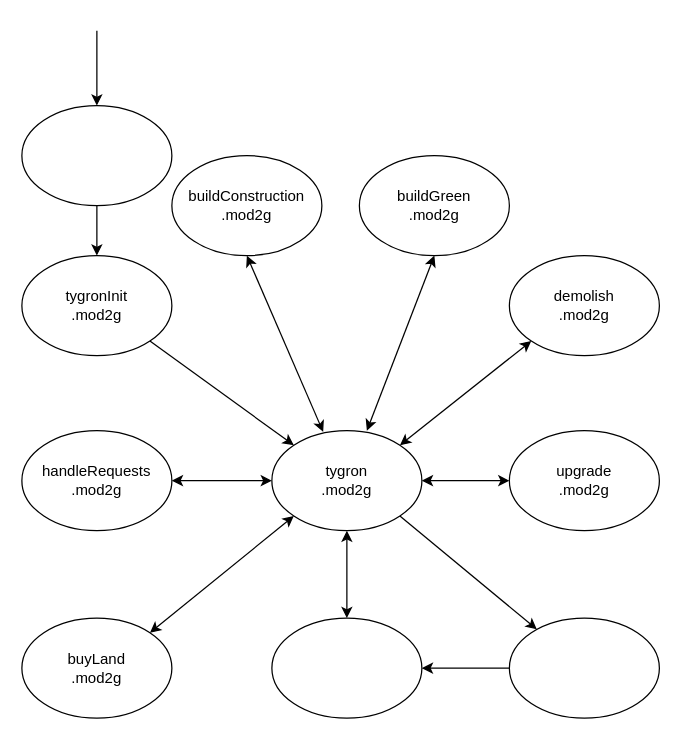
Image size: 681x740. Some labels were removed from this diagram. Each missing label, with the centre of its shape:
"sellLand .mod2g" goes at (x=583, y=667).
"sellLandHandler .mod2g" goes at (x=346, y=667).
"TUagent .mas2g" goes at (x=96, y=155).
